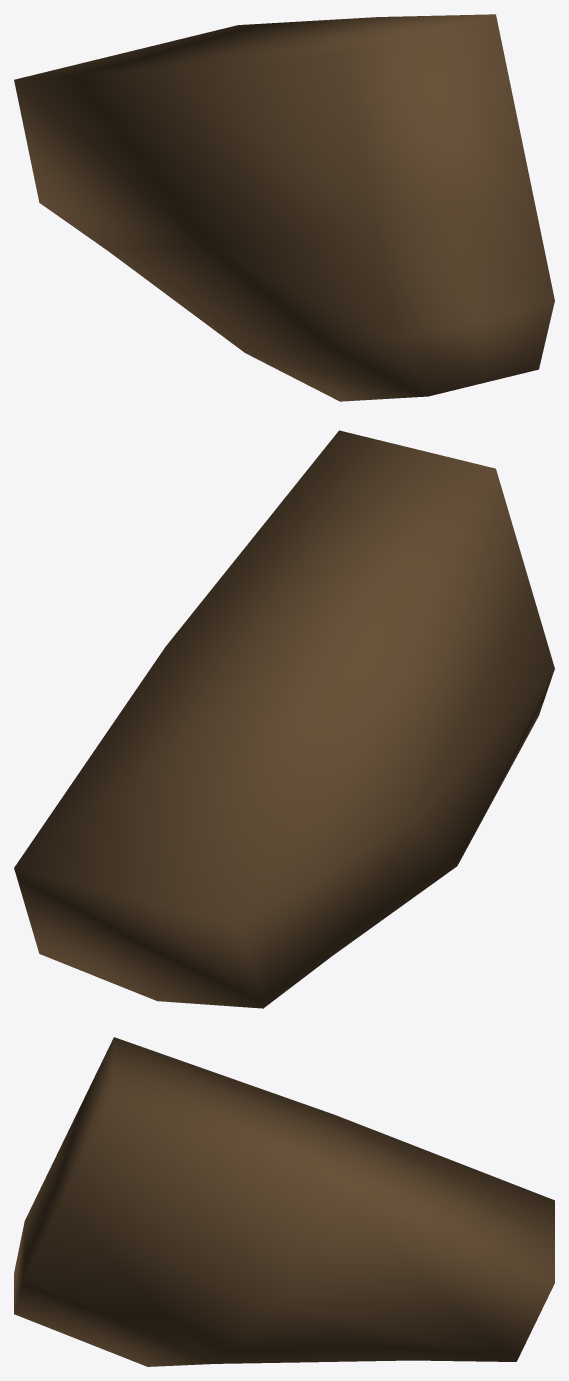
File: FootRight.dae
3 renders of one model, top to bottom at view 1: azimuth 30°, elevation 25°; view 2: azimuth 150°, elevation 25°; view 3: azimuth 270°, elevation 25°, orthographic. The views are drawn at different scales.
Visible parts, largest first — view 1: Foot_R; view 2: Foot_R; view 3: Foot_R.
Part boxes in pixels (left/top/right/bottom): Foot_R: left=14, top=14, right=554, bottom=401; Foot_R: left=14, top=430, right=554, bottom=1008; Foot_R: left=14, top=1037, right=554, bottom=1366.
Size of the model in its own units: 0.0761 by 0.2104 by 0.1204.
